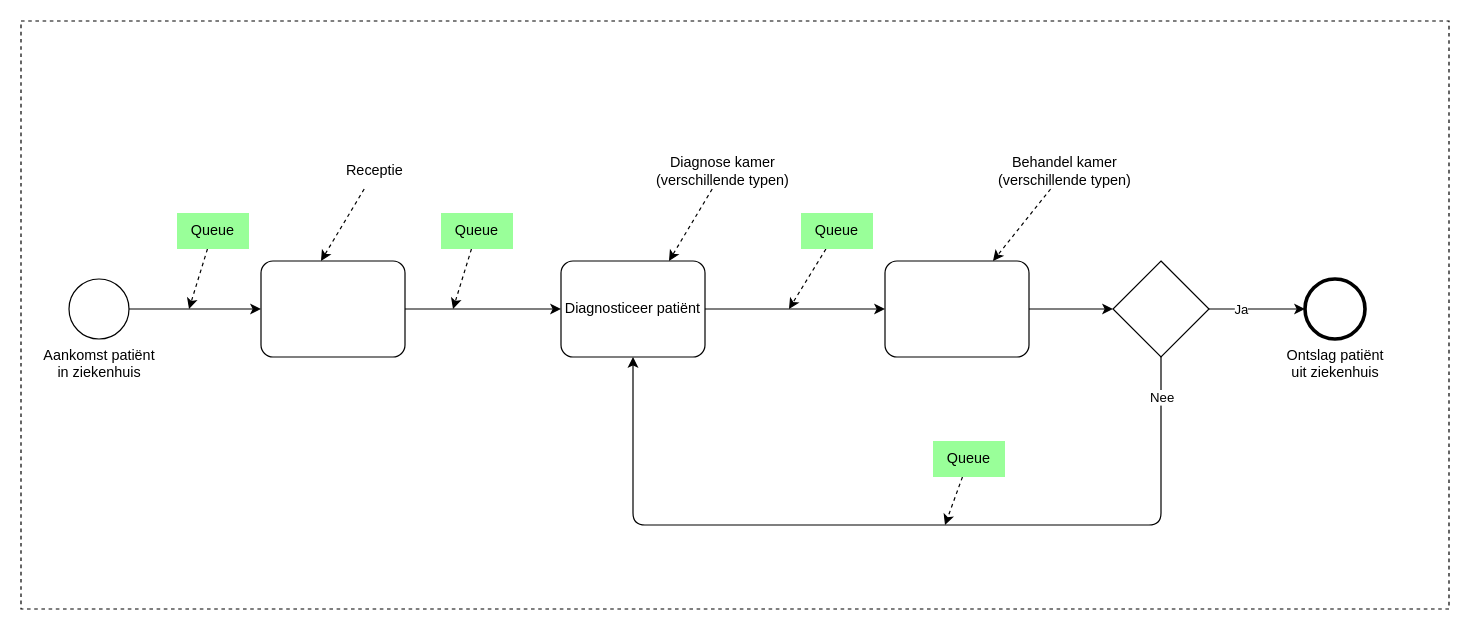
The diagram is 1470 pixels wide and 630 high, and some of its shapes have lost their labels. Here are the shapes that lost their labels. From the top down, the centre of each, then its label:
At (332,308): "Registreer patiënt".
At (956,308): "Behandel patiënt".
At (1160,308): "Behandeling succesvol?".
